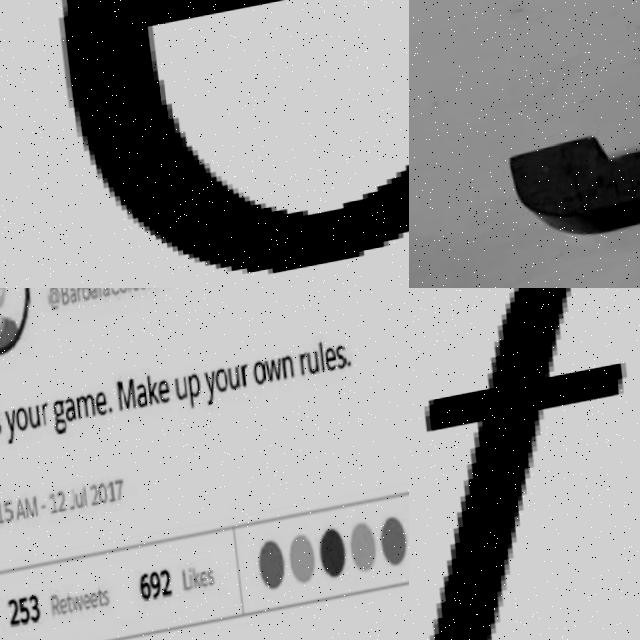0: (97, 484, 108, 507)
1: (106, 483, 116, 506), (47, 493, 57, 516), (0, 502, 2, 525)
2: (159, 569, 171, 603), (7, 599, 19, 627), (88, 485, 99, 509), (55, 492, 65, 514)
3: (28, 593, 40, 625)
5: (17, 597, 29, 627), (3, 499, 13, 525)
6: (138, 574, 150, 604)
7: (114, 481, 124, 504)
9: (148, 571, 162, 605)
E: (58, 0, 409, 284)
F: (409, 288, 640, 640)
J: (502, 0, 640, 254)
